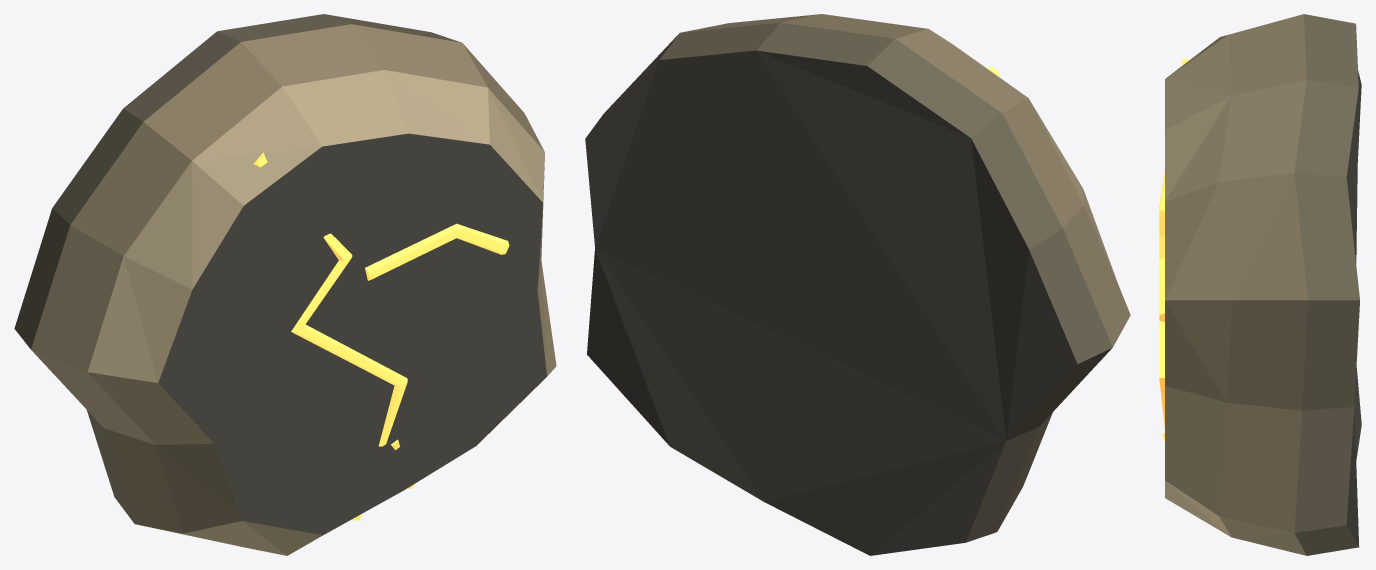
Rendered from FERNSTONE_ROCK.hi.glb.
3 views of the same model, side by side, from view 1: azimuth 30°, elevation 25°; view 2: azimuth 150°, elevation 25°; view 3: azimuth 270°, elevation 25° (orthographic).
Visible parts, largest first — view 1: Body_Mesh; view 2: Body_Mesh; view 3: Body_Mesh.
Boxes of the visible parts, x1,y1,x2,y2 form: Body_Mesh: (14,14,556,555); Body_Mesh: (585,14,1130,555); Body_Mesh: (1159,14,1361,555).
Bounding box in the file's own units: 0.3054 × 0.2919 × 0.1048.
Materials: 1 (1 with a texture image).
